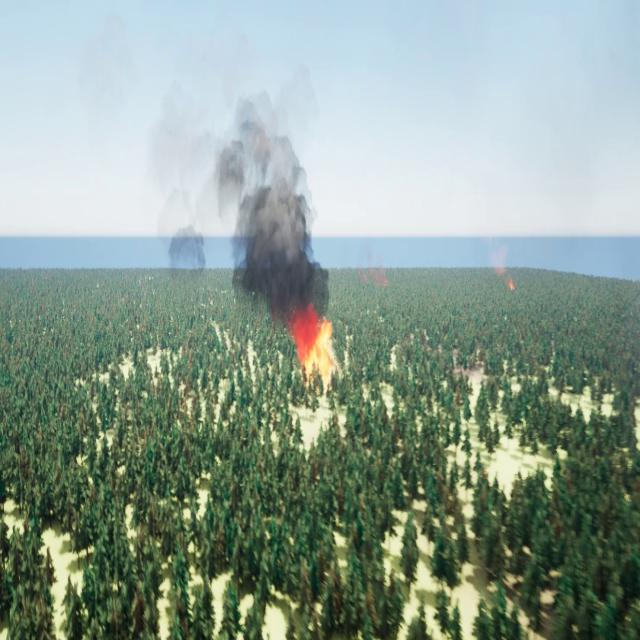fire: (291, 308, 336, 377)
smoke: (147, 66, 330, 316), (490, 240, 514, 288), (359, 246, 387, 282)
